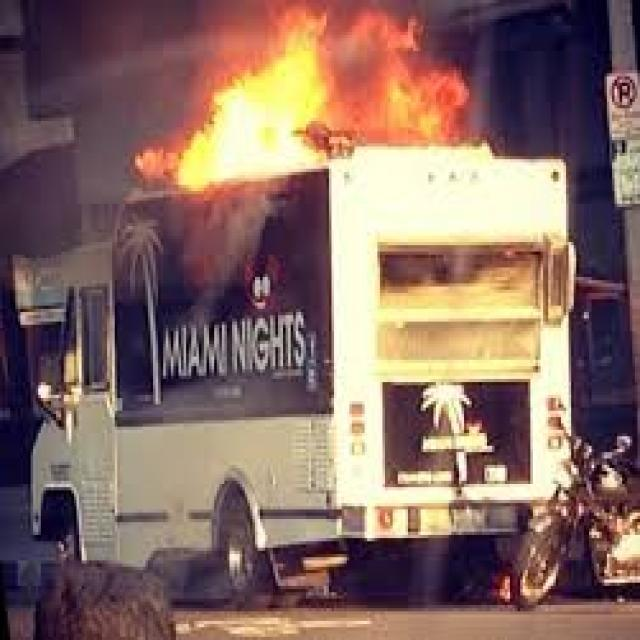Fire: (134, 0, 472, 194)
